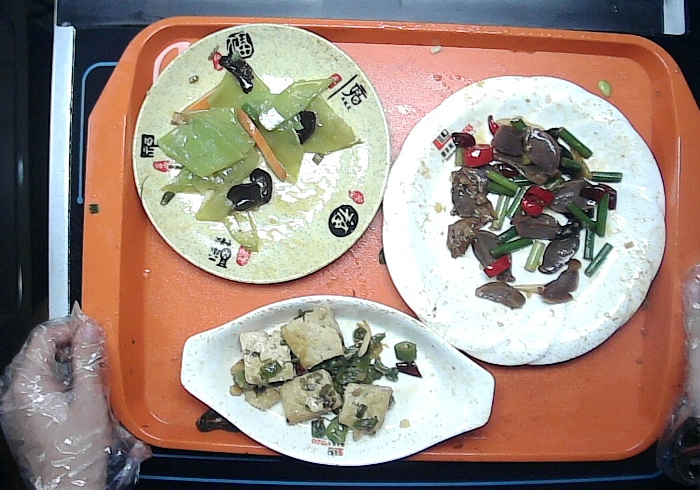NLDX-Bai_Zhe_Yuan_Pan: (382, 73, 666, 369)
NLDX-Fu_Zi_Yuan_Pan: (128, 20, 392, 284)
NLDX-Yu_Pan: (181, 295, 496, 468)
